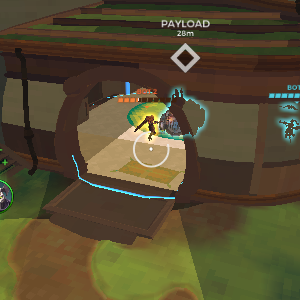model: (139, 112, 160, 144)
